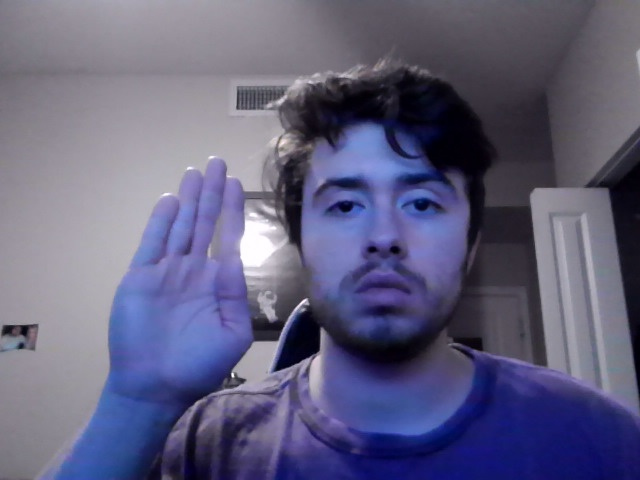b: (108, 155, 255, 408)
